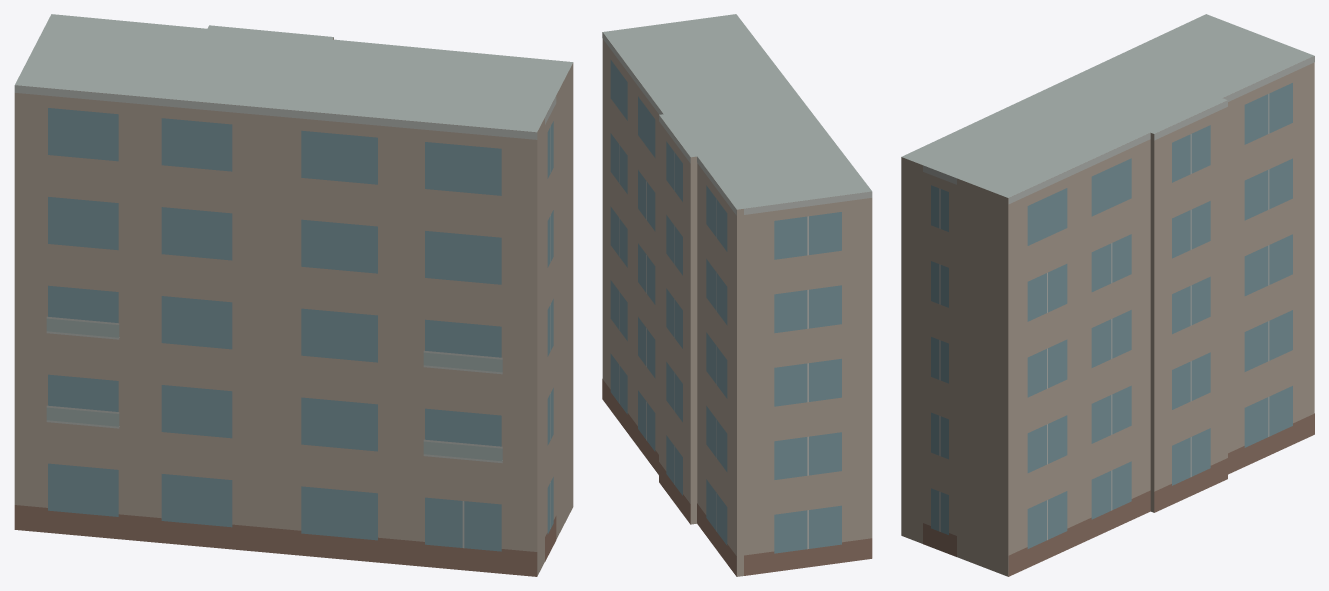
File: survey-upis-32998397.glb
3 views of the same model, side by side, from view 1: azimuth 30°, elevation 25°; view 2: azimuth 150°, elevation 25°; view 3: azimuth 270°, elevation 25° (orthographic). The views are drawn at different scales.
Parts seen in each view (by area): view 1: survey-upis-32998397.tmp; view 2: survey-upis-32998397.tmp; view 3: survey-upis-32998397.tmp.
Boxes of the visible parts, left/top/right/bottom form: survey-upis-32998397.tmp: left=14, top=14, right=573, bottom=576; survey-upis-32998397.tmp: left=602, top=14, right=872, bottom=576; survey-upis-32998397.tmp: left=901, top=14, right=1314, bottom=576.
Bounding box in the file's own units: 14.79 × 14.18 × 14.03.
